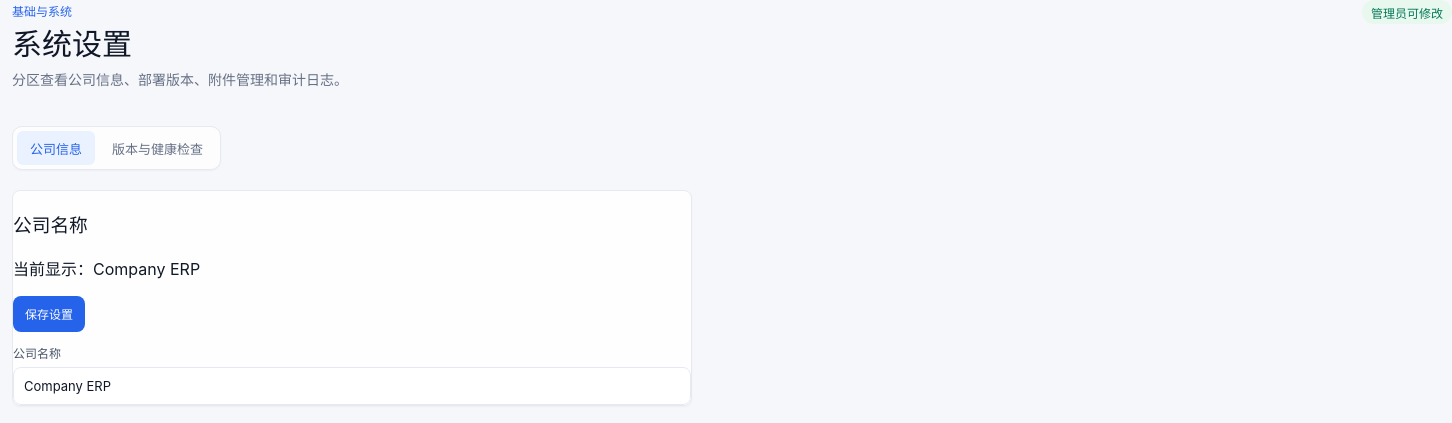
Scenario: SystemSettingsWorkspace › saves the company name through the existing app config API
Replace the text in the field labelled "公司名称" with "无锡餐服 ERP" at [352, 386], box [13,367,691,405]
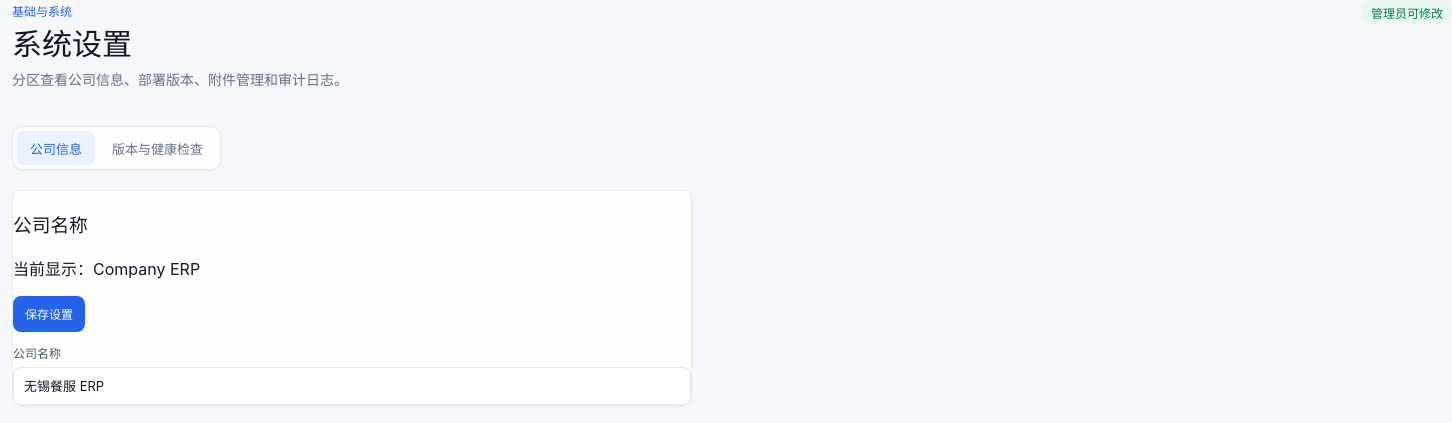
Click the button "保存设置" at [49, 314], box [13,296,85,332]
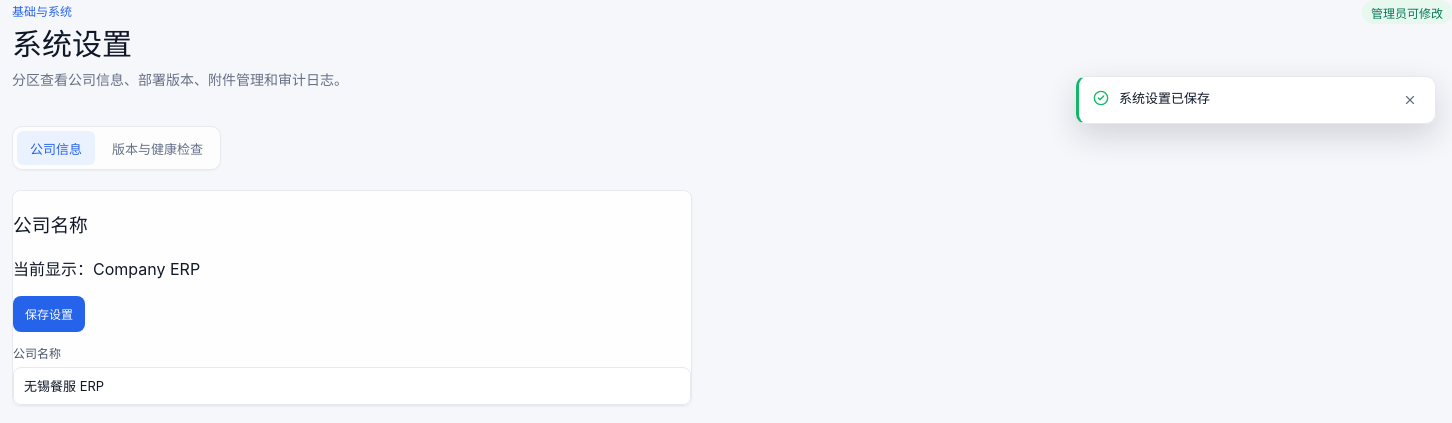
Check: the message reads "系统设置已保存", box [1119,90,1210,106]
